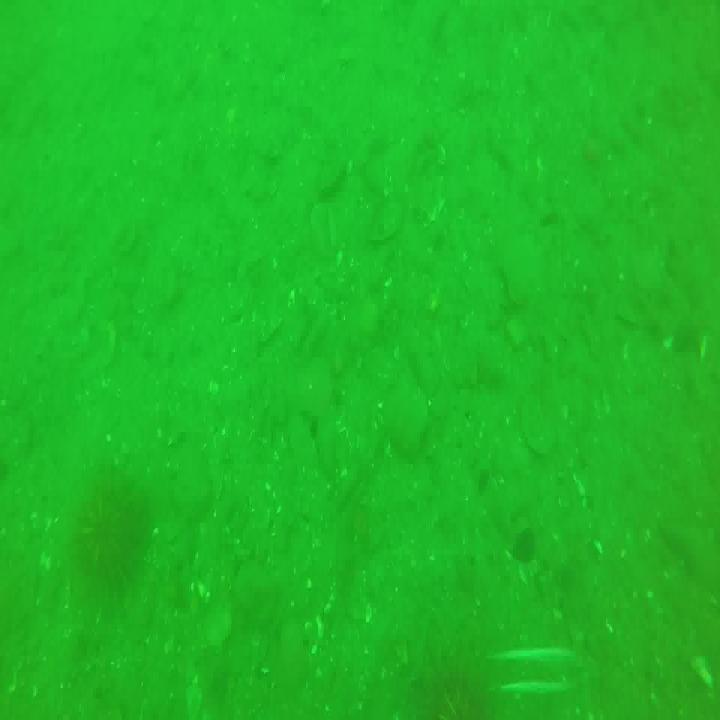echinus: (65, 471, 144, 603)
